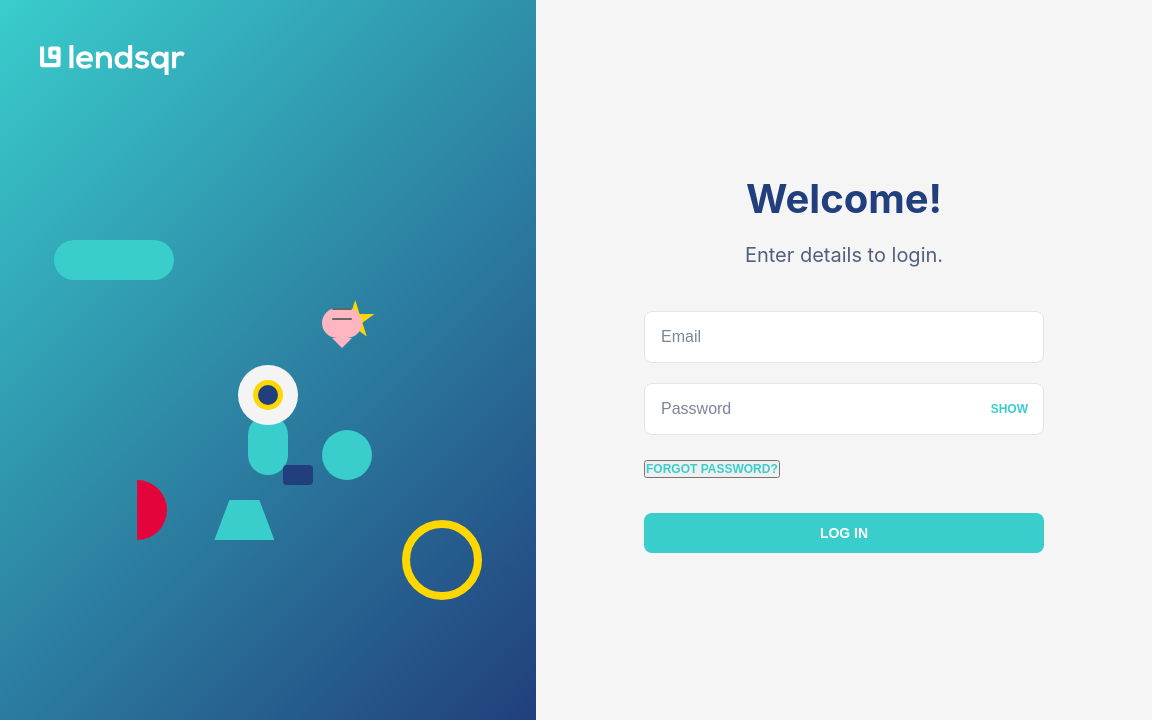
Login Component › displays error message for short password
Type "test@example.com" into the field with placeholder "Email" at point(844, 337), box [644,311,1044,363]
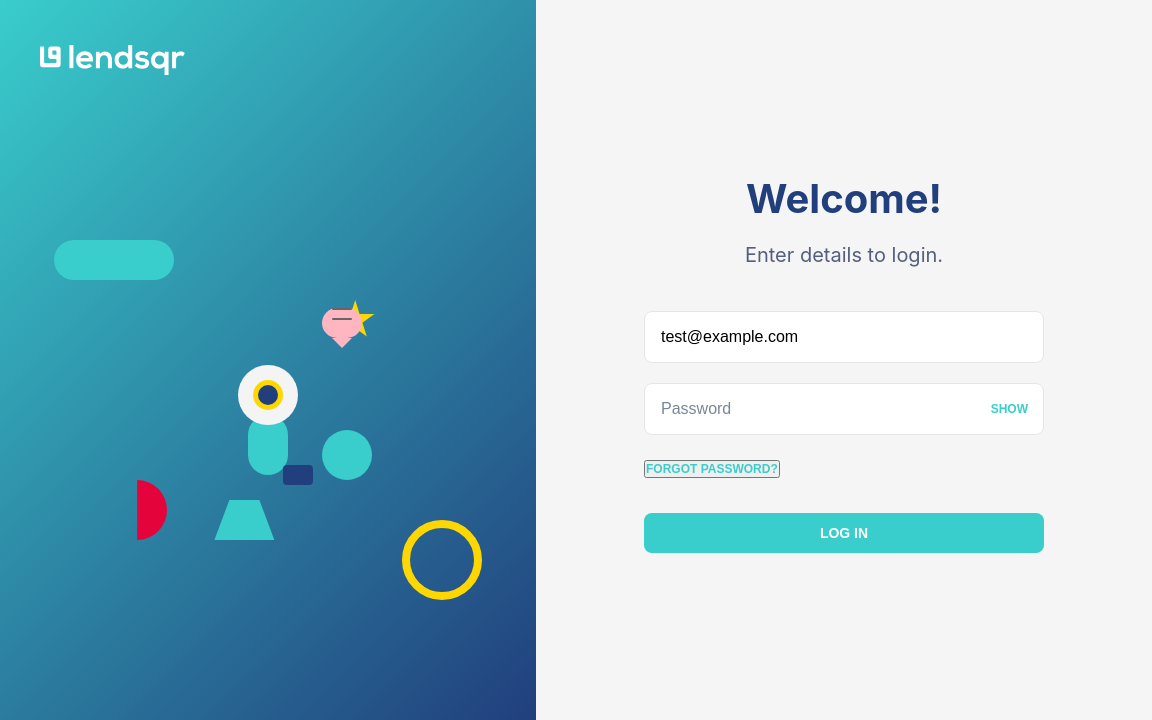
Type "123" into the password field with placeholder "Password" at point(844, 409), box [644,383,1044,435]
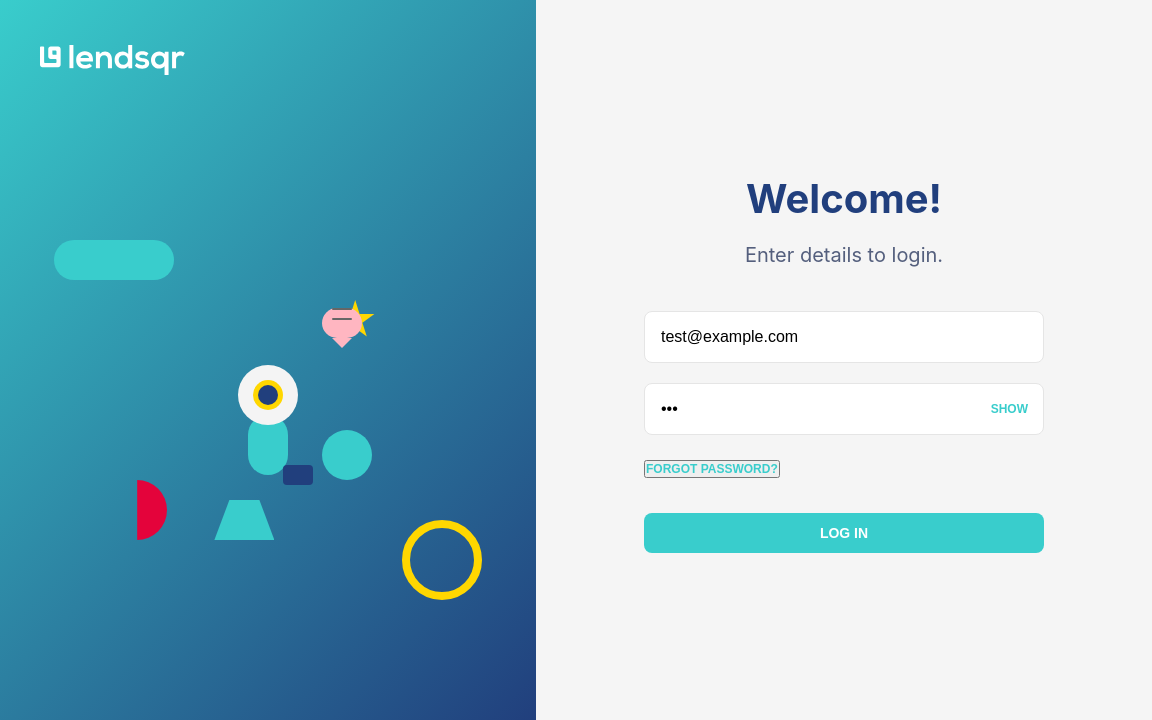
Click the button "LOG IN" at point(844, 533), box [644,513,1044,553]
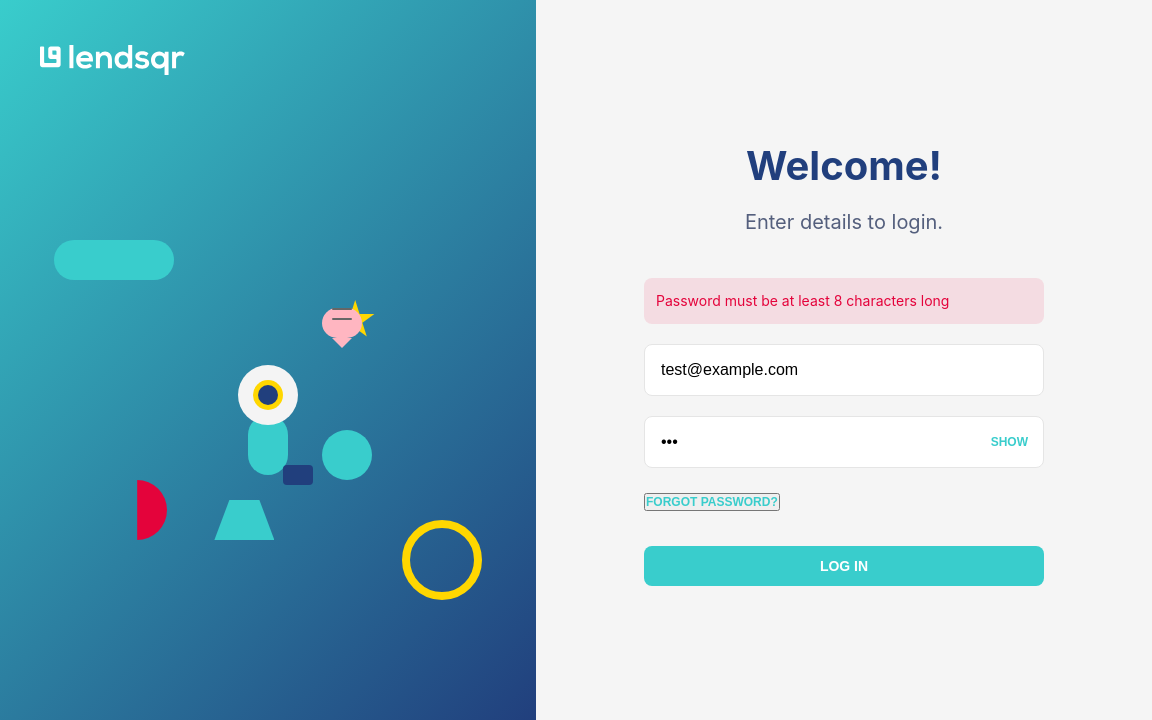
Check: the text "Password must be at least 8 characters long" is shown, box [644,278,1044,324]
